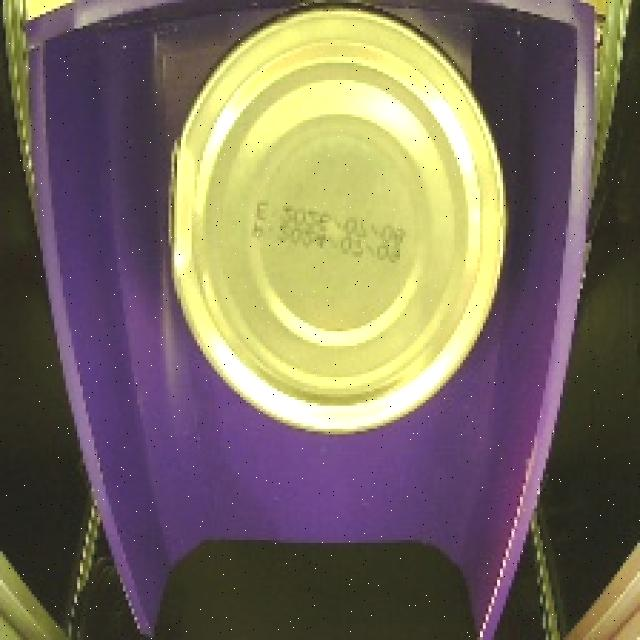metal: (155, 0, 517, 450)
